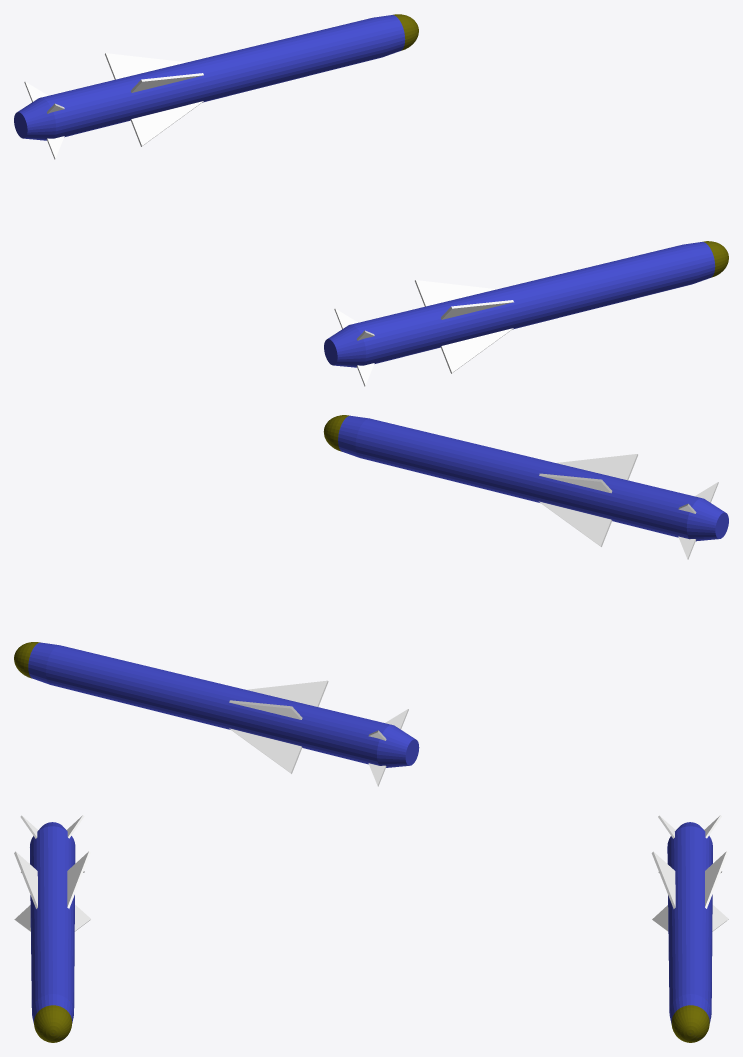
Rendered from asm2l1f2a12.glb.
3 renders of one model, top to bottom at view 1: azimuth 30°, elevation 25°; view 2: azimuth 150°, elevation 25°; view 3: azimuth 270°, elevation 25°, orthographic. The views are drawn at different scales.
Visible parts, largest first — view 1: 立方体.029, 立方体.016; view 2: 立方体.016, 立方体.029; view 3: 立方体.029, 立方体.016.
Boxes of the visible parts, x1,y1,x2,y2 form: 立方体.029: [324, 241, 728, 386]; 立方体.016: [14, 14, 418, 159]; 立方体.016: [14, 642, 419, 786]; 立方体.029: [323, 415, 728, 559]; 立方体.029: [14, 815, 90, 1042]; 立方体.016: [651, 815, 728, 1042].
Size of the model in its own units: 5.34 by 0.8761 by 8.1.
Materials: 3 (1 with a texture image).
